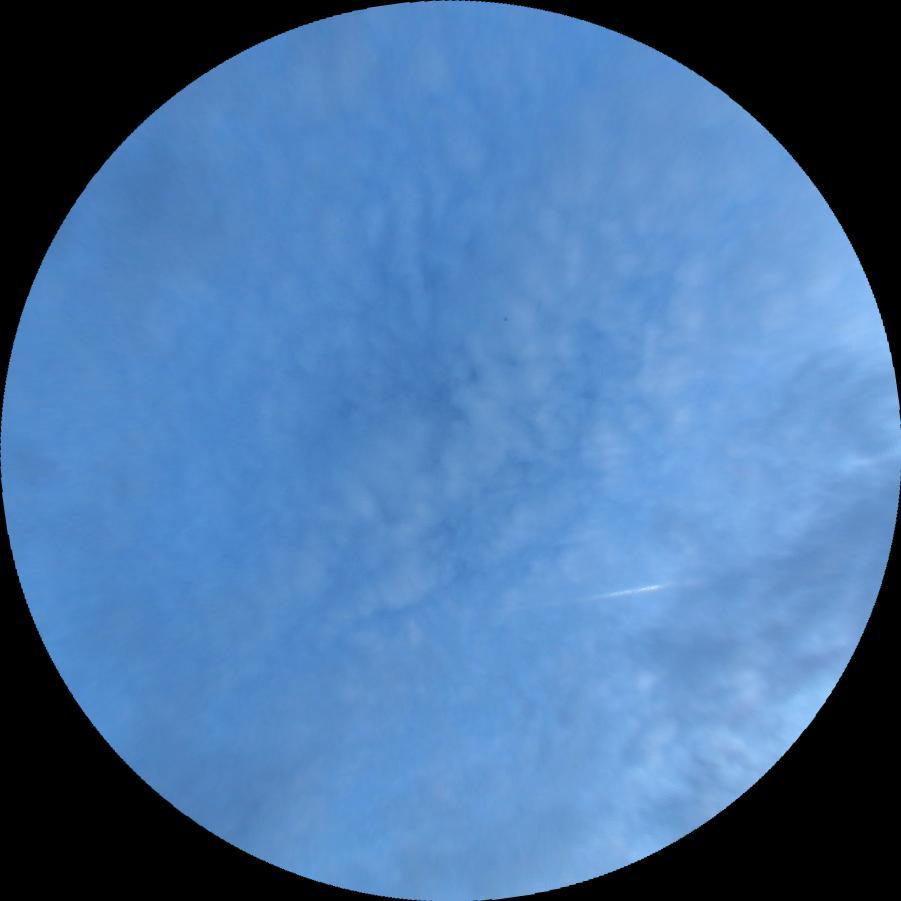unknow: (565, 580, 673, 606)
